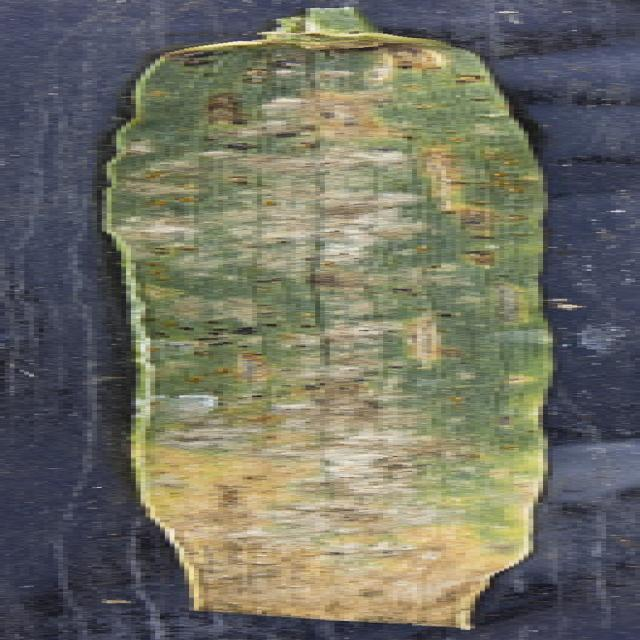wheat-powdery-mildew: (101, 10, 555, 633)
